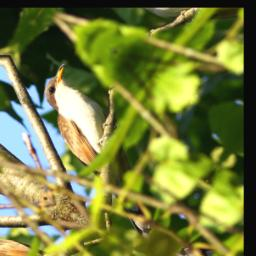Cuckoo: (0, 57, 213, 244)
